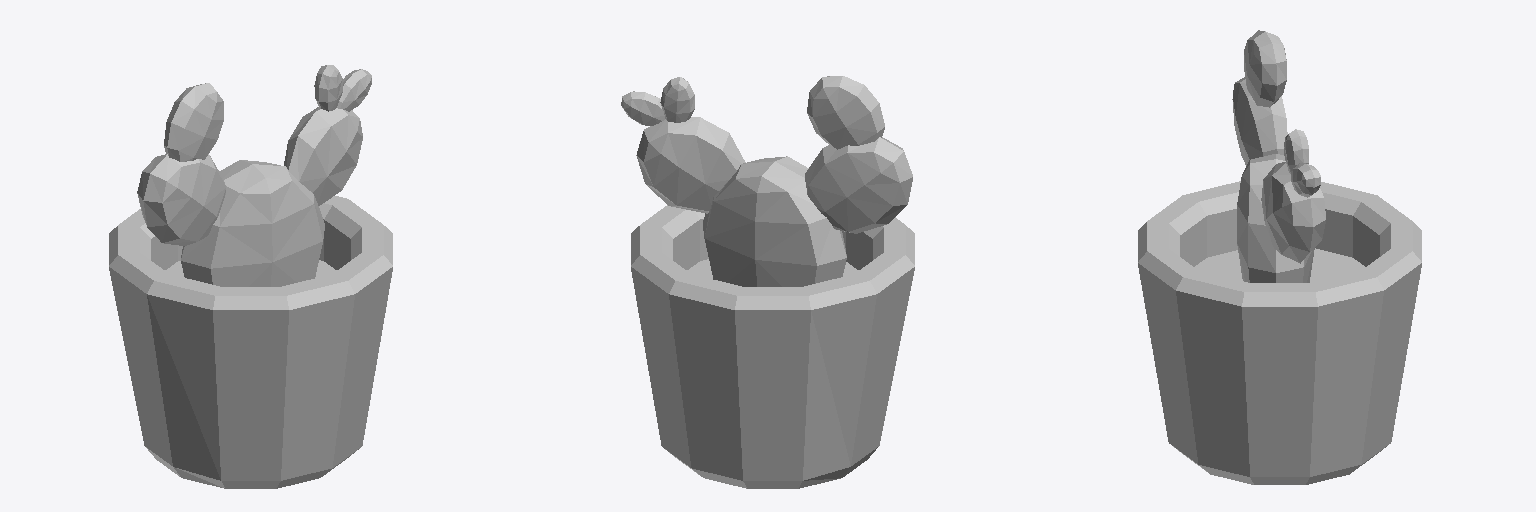
Rendered from Tiny Cactus.obj.
The picture shows the model from 3 angles: view 1: azimuth 30°, elevation 25°; view 2: azimuth 150°, elevation 25°; view 3: azimuth 270°, elevation 25°; orthographic projection.
Parts seen in each view (by area): view 1: Tiny Cactus; view 2: Tiny Cactus; view 3: Tiny Cactus.
Boxes of the visible parts, <box> form: Tiny Cactus: <box>109,65,392,488</box>; Tiny Cactus: <box>621,76,914,488</box>; Tiny Cactus: <box>1138,30,1421,484</box>.
Size of the model in its own units: 0.517 by 0.7333 by 0.494.